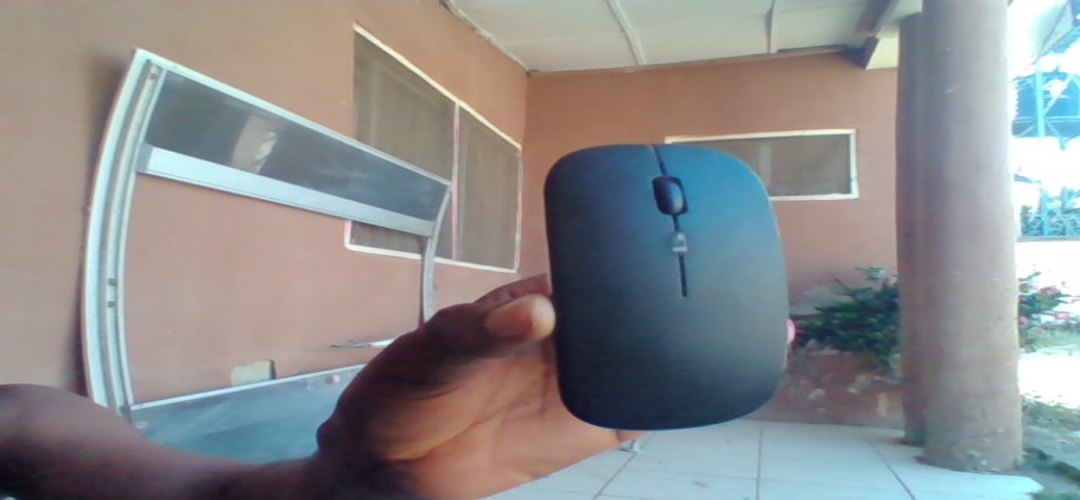wireless_mouse: (532, 144, 800, 438)
